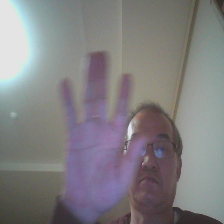hand: (54, 49, 146, 218)
